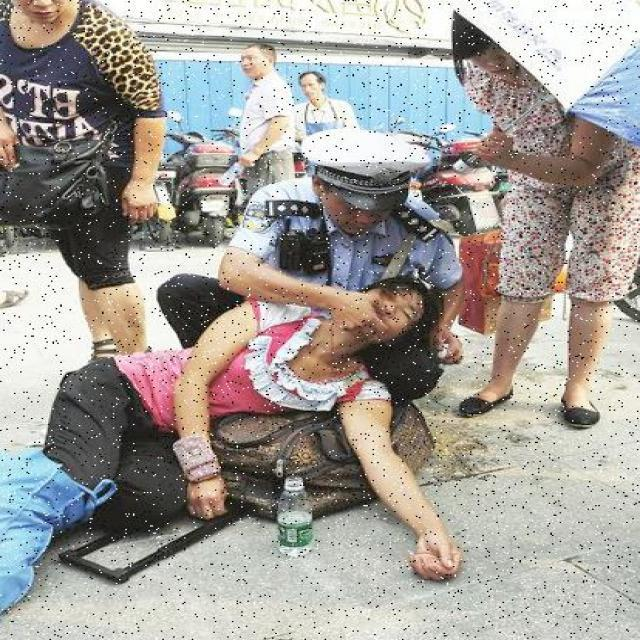fall: (57, 286, 439, 558)
